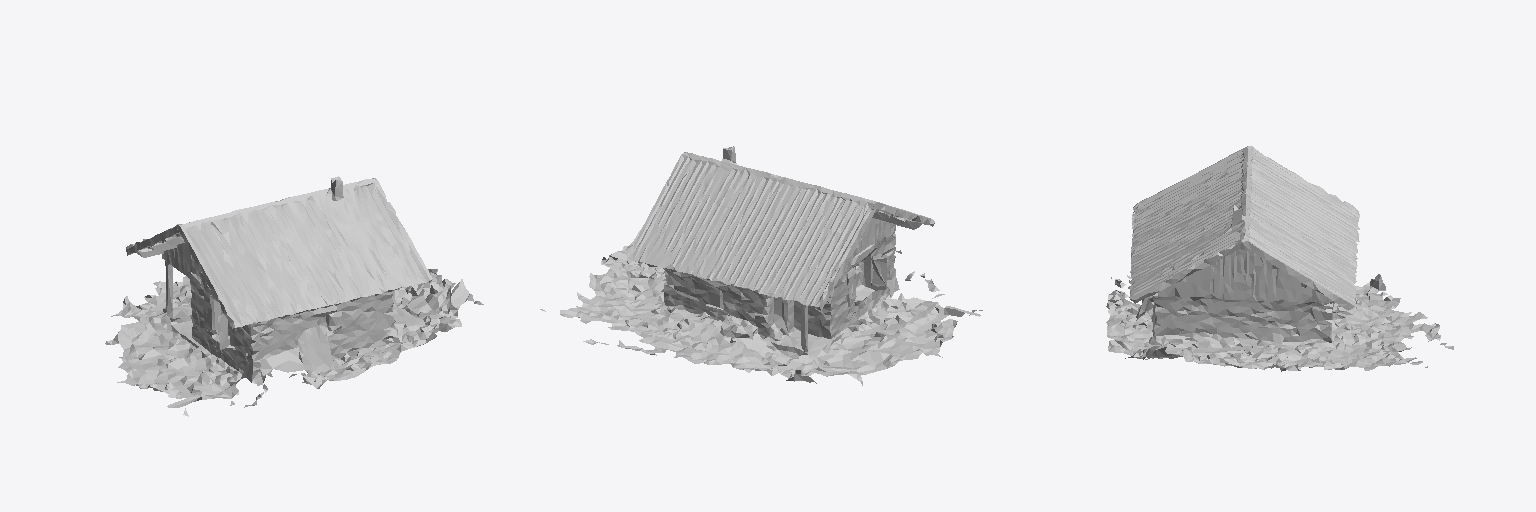
File: chalet_low.obj
The picture shows the model from 3 angles: view 1: azimuth 30°, elevation 25°; view 2: azimuth 150°, elevation 25°; view 3: azimuth 270°, elevation 25°; orthographic projection.
Size of the model in its own units: 2.14 by 1.03 by 2.04.